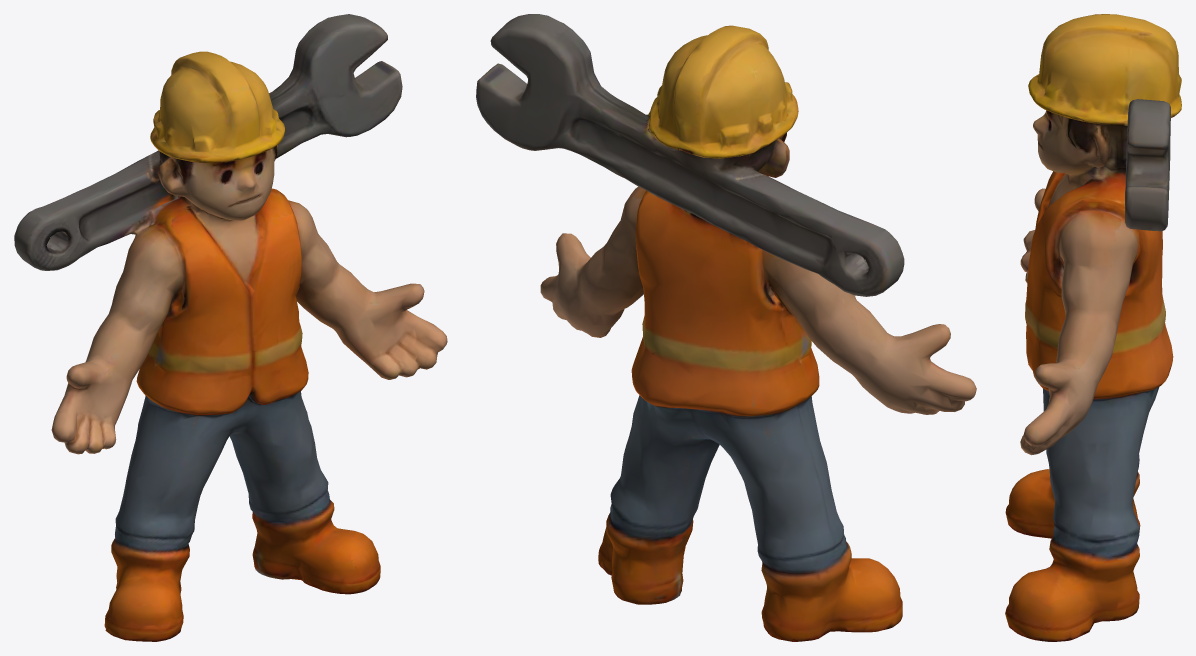
Rendered from char_construction_worker.glb.
3 views of the same model, side by side, from view 1: azimuth 30°, elevation 25°; view 2: azimuth 150°, elevation 25°; view 3: azimuth 270°, elevation 25° (orthographic). The views are drawn at different scales.
Visible parts, largest first — view 1: geometry_0; view 2: geometry_0; view 3: geometry_0.
Boxes of the visible parts, x1,y1,x2,y2 form: geometry_0: [14, 14, 447, 641]; geometry_0: [476, 14, 976, 641]; geometry_0: [1005, 14, 1181, 641].
Bounding box in the file's own units: 1.55 × 1.97 × 0.5668.
1 material, 1 textured.
